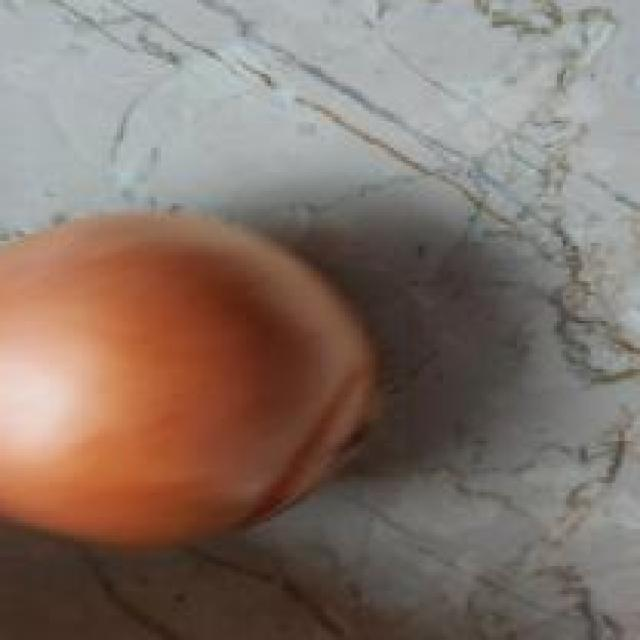onion: (0, 206, 406, 557)
